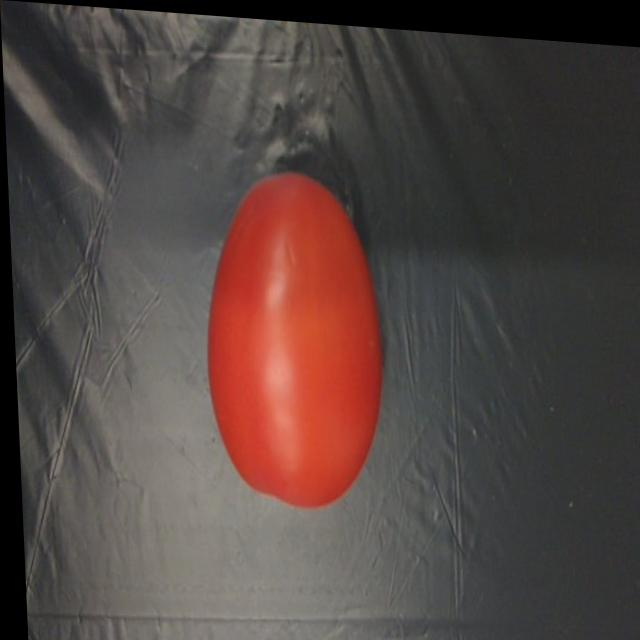kirmizi: (188, 151, 398, 513)
